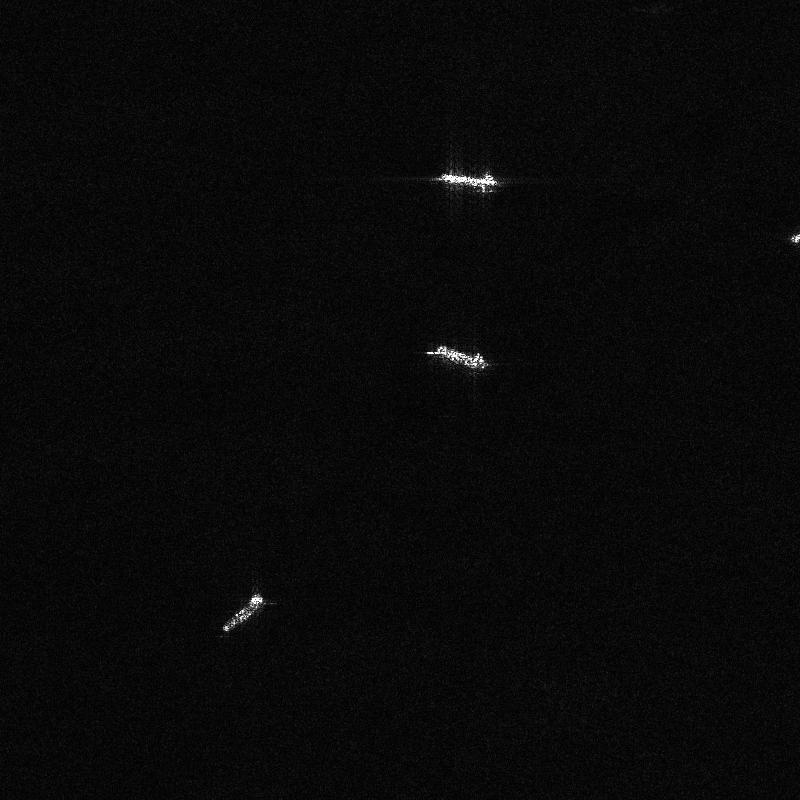ship: (221, 593, 264, 632), (436, 345, 488, 369), (437, 172, 498, 190), (789, 232, 799, 244)
